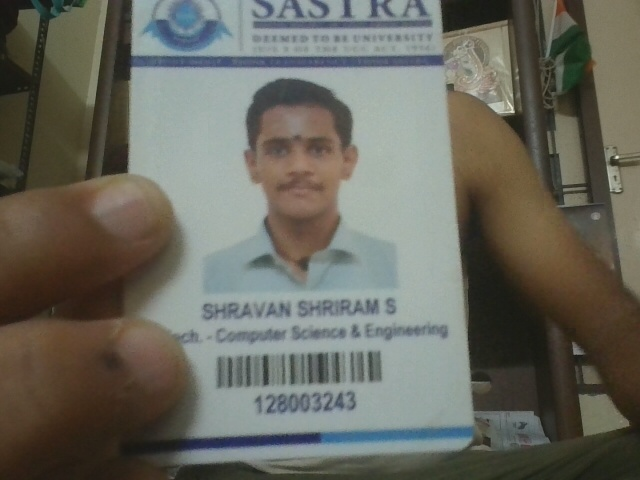fake: (241, 104, 354, 217)
